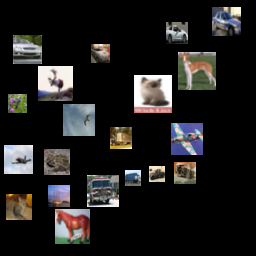airplane: (132, 204, 161, 233), (94, 81, 120, 107)
automobile: (146, 144, 181, 179), (96, 35, 131, 70)
bird: (110, 108, 145, 143), (190, 60, 216, 86)
cat: (149, 47, 165, 63)
deer: (176, 11, 205, 40)
dog: (23, 197, 42, 216), (115, 184, 134, 203)
frog: (55, 44, 90, 79), (185, 131, 217, 163), (77, 3, 106, 32), (45, 173, 71, 199), (2, 52, 28, 78)
ship: (38, 93, 76, 131), (101, 207, 123, 229), (31, 56, 53, 78)
